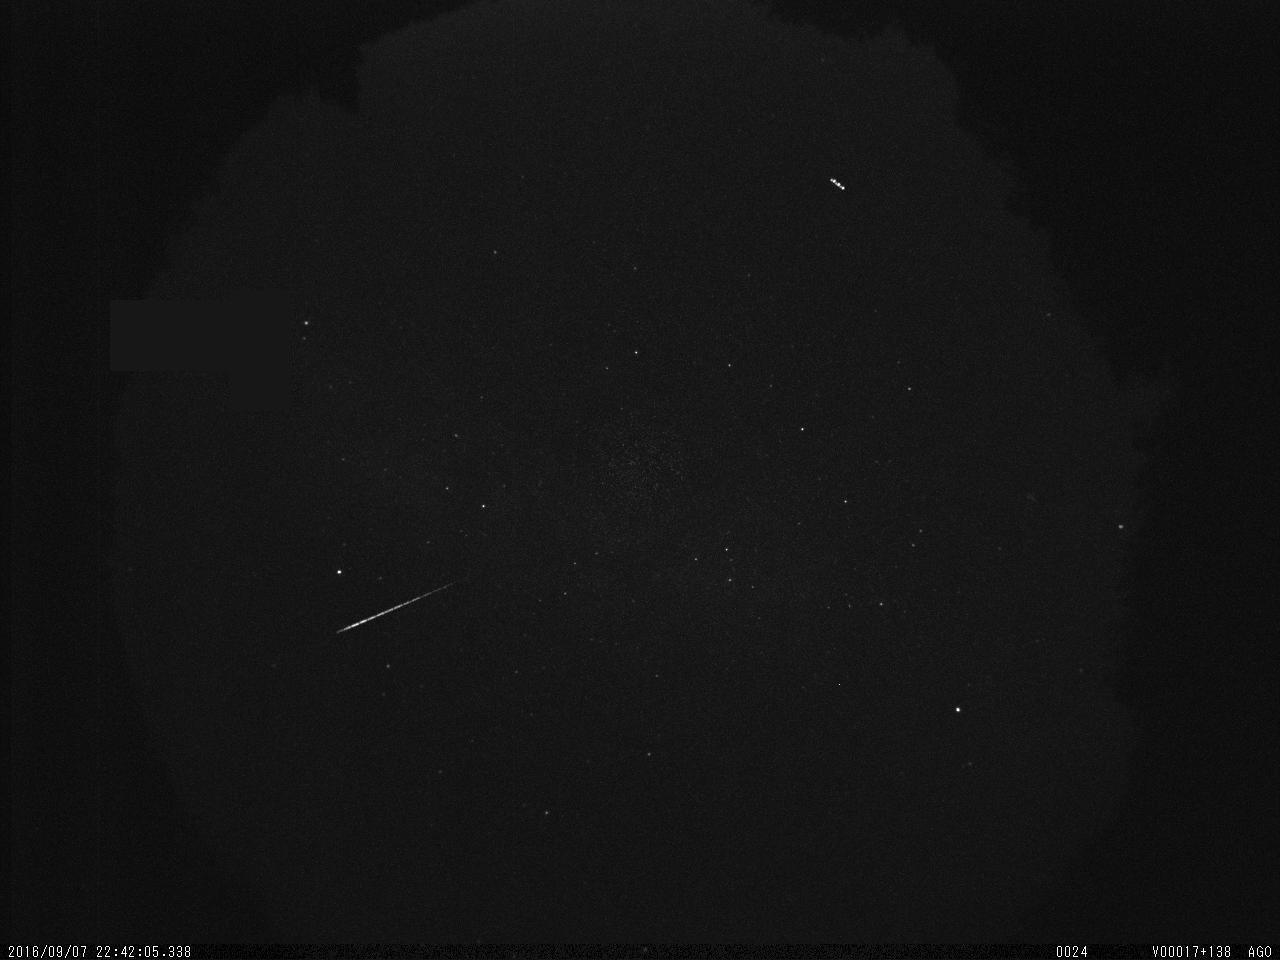meteor: (325, 563, 474, 650)
satelite: (827, 173, 853, 199)
